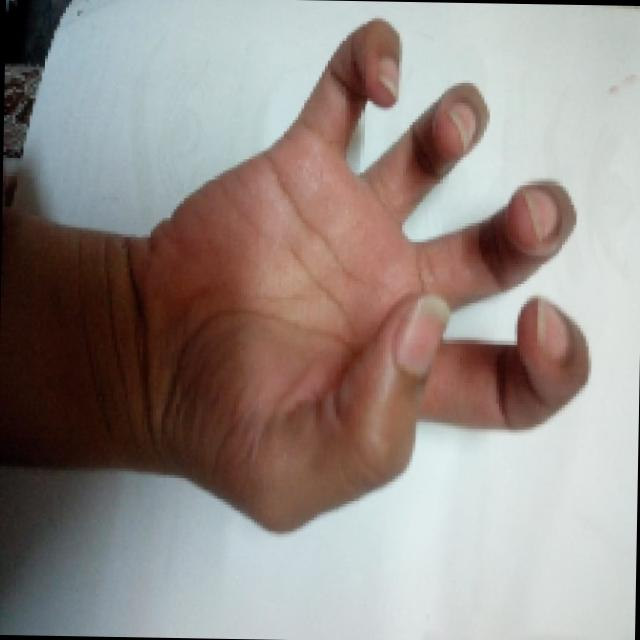Nail: (396, 293, 450, 374), (536, 299, 569, 357), (522, 186, 558, 234), (445, 102, 476, 151), (378, 57, 399, 100)
